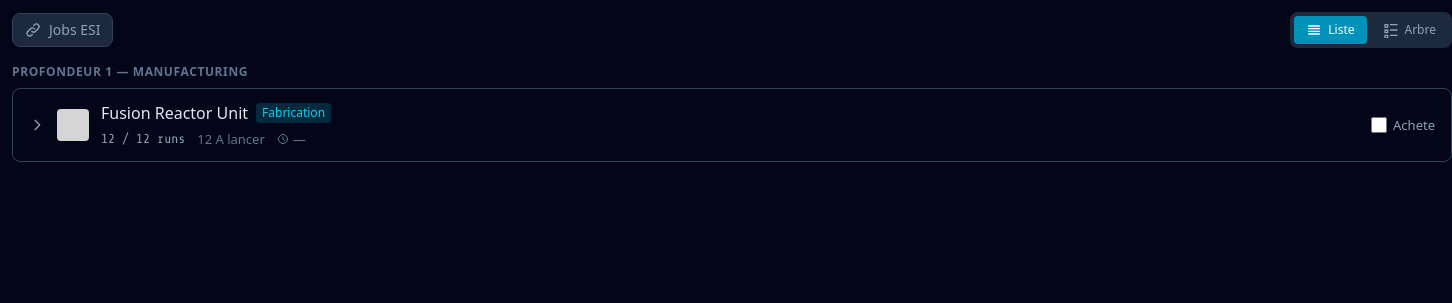
Test: StepsTab fixed step runs › labels the overproduction offer in french
Click the element with class "step-row": (732, 125) [12, 88, 1451, 162]
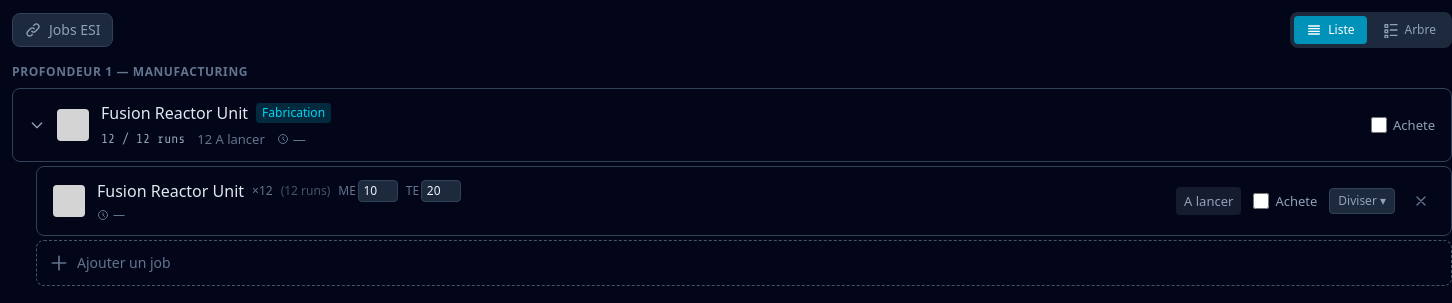
Double-click the button "(12 runs)": (306, 191) [281, 183, 330, 199]
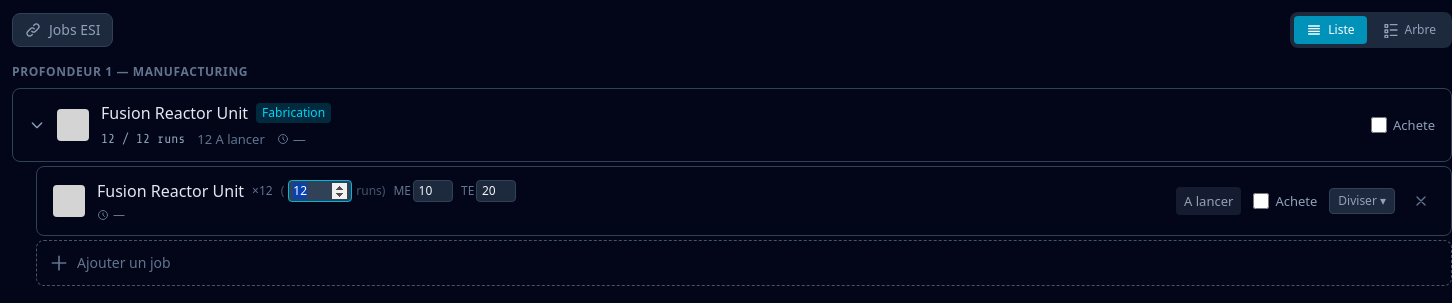
Replace the text in the number field named "Runs" with "20": (320, 191) [288, 180, 352, 202]
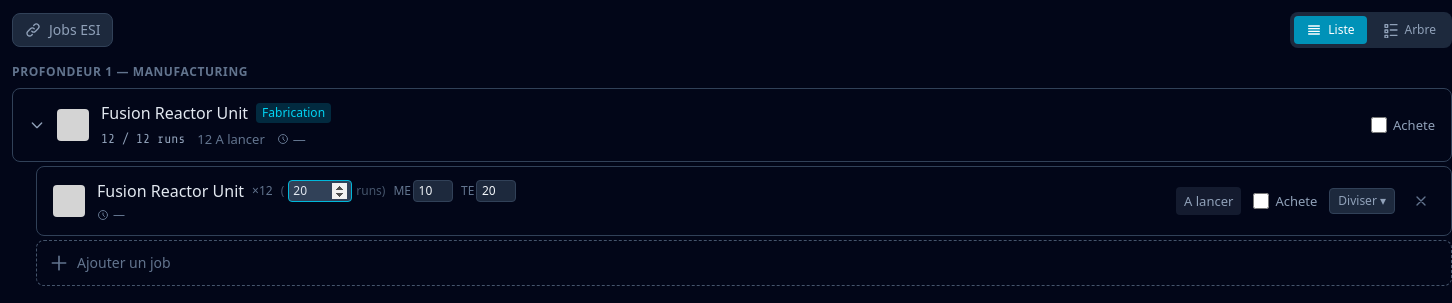
Press Enter in the number field named "Runs", box [288, 180, 352, 202]
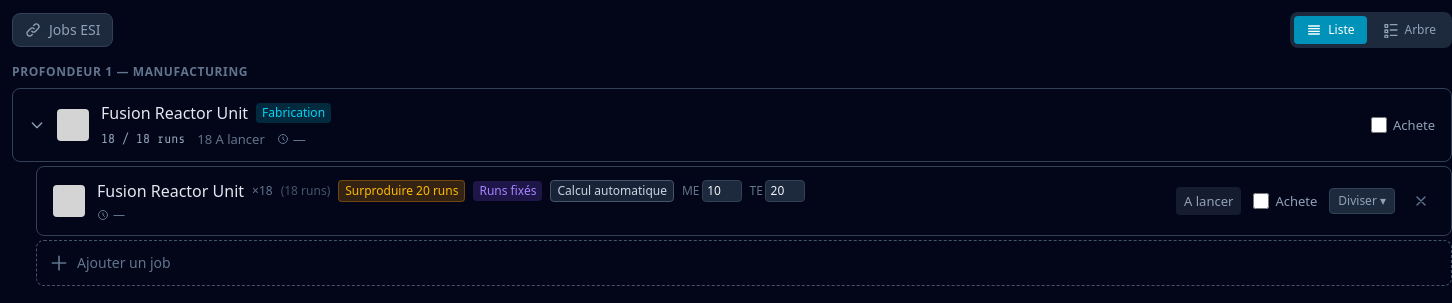
expect the button with test id "overproduce-step-runs" reads "Surproduire 20 runs": met, box [338, 180, 466, 202]
